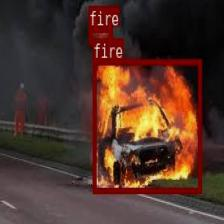fire: (92, 58, 200, 193), (88, 25, 112, 44)
